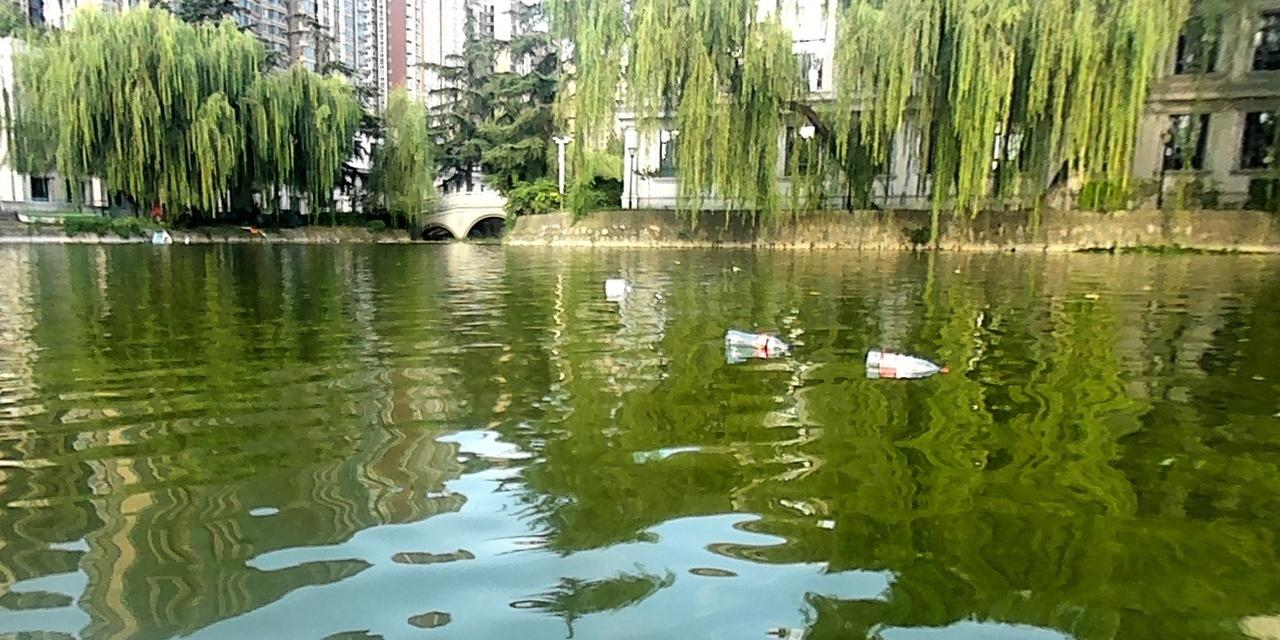bottle: (864, 349, 946, 377), (723, 328, 793, 354), (604, 278, 631, 292)
